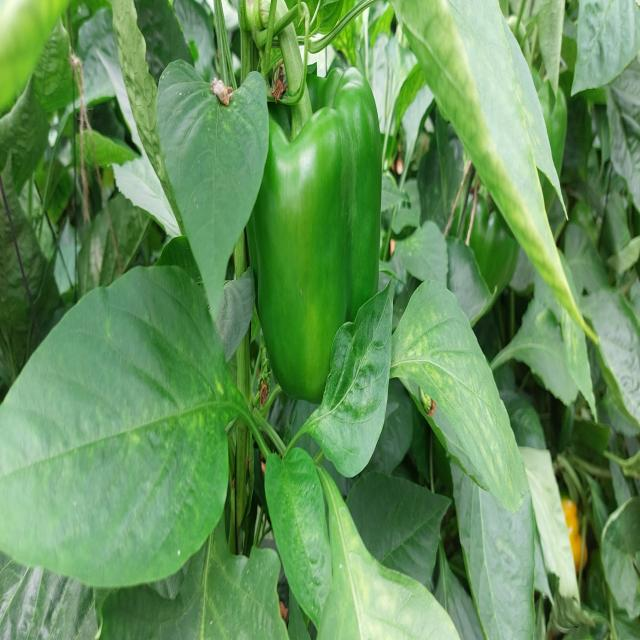Green--Not-ready-to-harvest: (244, 78, 392, 415)
